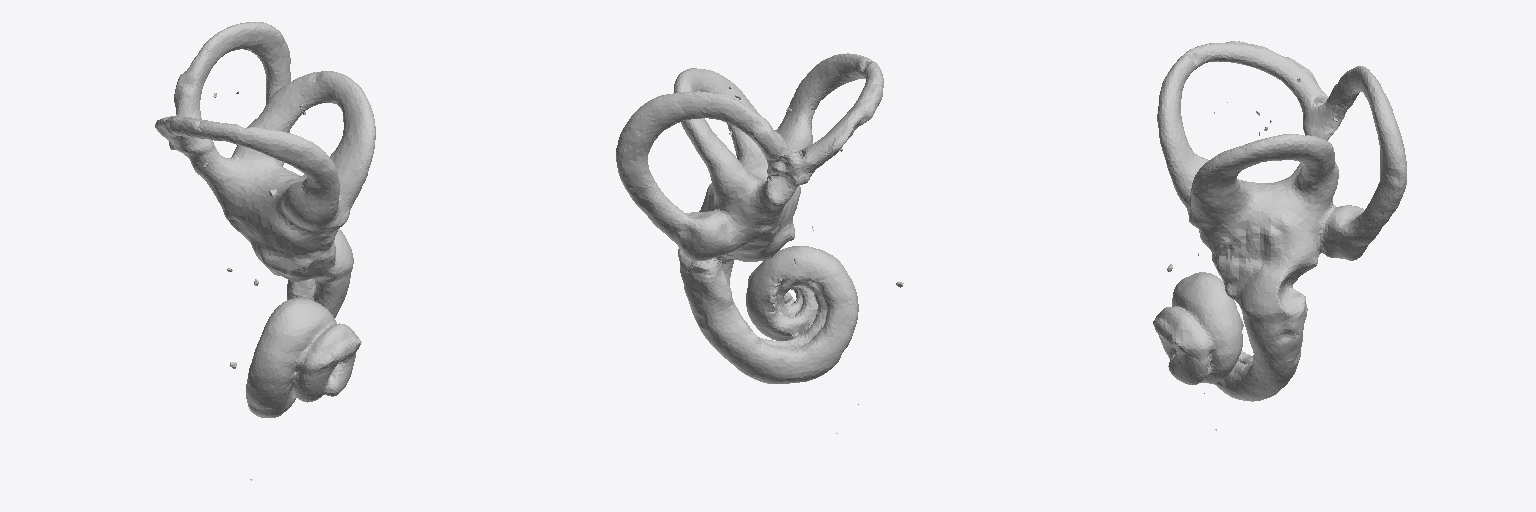
The model's file is s13700inner_ear.obj.
3 renders of one model, left to right at view 1: azimuth 30°, elevation 25°; view 2: azimuth 150°, elevation 25°; view 3: azimuth 270°, elevation 25°, orthographic.
Bounding box in the file's own units: 96.81 × 187 × 113.